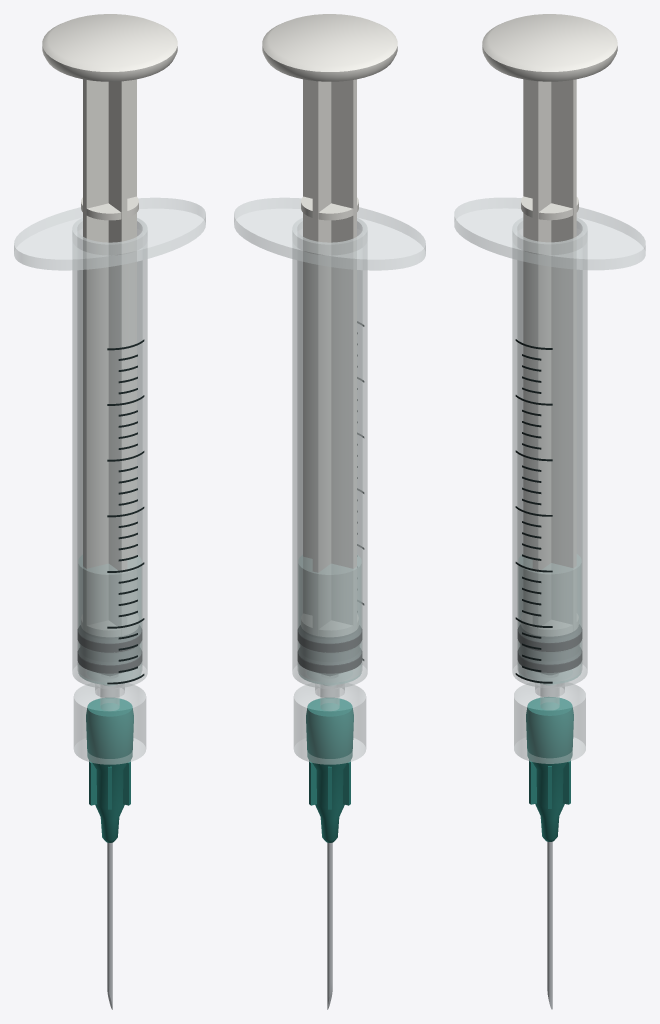
File: syringe.glb
The picture shows the model from 3 angles, left to right: view 1: azimuth 30°, elevation 25°; view 2: azimuth 150°, elevation 25°; view 3: azimuth 330°, elevation 25°; orthographic projection.
Parts seen in each view (by area): view 1: Syringe_Barrel, Syringe_Plunger, Syringe_Fluid, Syringe_Hub, Syringe_Stopper, Syringe_Graduations, Syringe_Needle; view 2: Syringe_Barrel, Syringe_Plunger, Syringe_Fluid, Syringe_Hub, Syringe_Stopper, Syringe_Needle; view 3: Syringe_Barrel, Syringe_Plunger, Syringe_Fluid, Syringe_Hub, Syringe_Stopper, Syringe_Graduations, Syringe_Needle.
Boxes of the visible parts, left/top/right/bottom form: Syringe_Barrel: left=14, top=197, right=205, bottom=764; Syringe_Plunger: left=42, top=14, right=177, bottom=636; Syringe_Fluid: left=78, top=555, right=141, bottom=685; Syringe_Hub: left=86, top=698, right=133, bottom=842; Syringe_Stopper: left=77, top=625, right=142, bottom=675; Syringe_Graduations: left=107, top=339, right=144, bottom=684; Syringe_Needle: left=107, top=842, right=112, bottom=1009; Syringe_Barrel: left=234, top=197, right=425, bottom=764; Syringe_Plunger: left=262, top=14, right=397, bottom=636; Syringe_Fluid: left=298, top=555, right=361, bottom=685; Syringe_Hub: left=306, top=698, right=353, bottom=842; Syringe_Stopper: left=297, top=625, right=362, bottom=675; Syringe_Needle: left=327, top=842, right=332, bottom=1009; Syringe_Barrel: left=454, top=197, right=645, bottom=763; Syringe_Plunger: left=482, top=14, right=617, bottom=635; Syringe_Fluid: left=518, top=554, right=581, bottom=685; Syringe_Hub: left=526, top=697, right=573, bottom=841; Syringe_Stopper: left=517, top=625, right=582, bottom=674; Syringe_Graduations: left=515, top=339, right=552, bottom=683; Syringe_Needle: left=547, top=841, right=552, bottom=1009.
Size of the model in its own units: 0.028 by 0.142 by 0.018.
